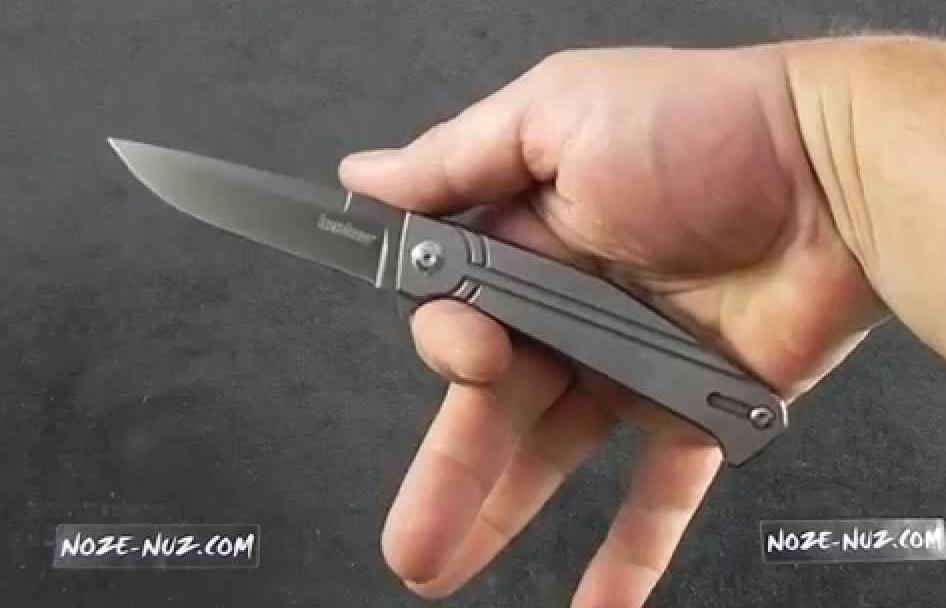knife: (86, 113, 572, 386)
